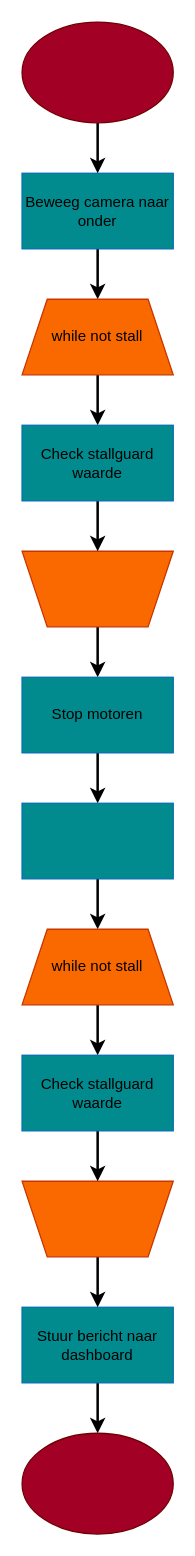
The diagram is 195 pixels wide and 1556 high, and some of its shapes have lost their labels. The shapes that lost their labels are listed below. From the top down, each one's centre as x and y in pixels, then its label:
the point at 97,72: Start
the point at 97,840: Beweeg camera naar links
the point at 97,1483: Einde
